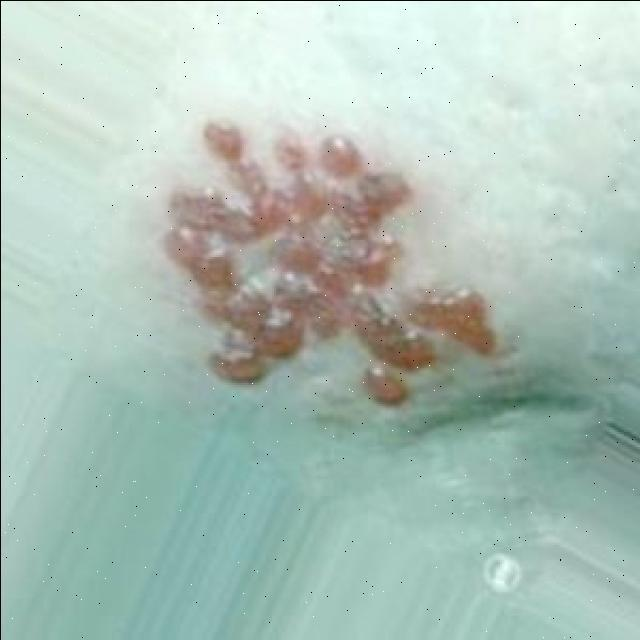Shingles: (164, 119, 497, 408)
